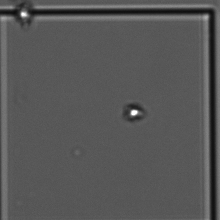Living Cell: (120, 100, 148, 124), (13, 3, 35, 27)
